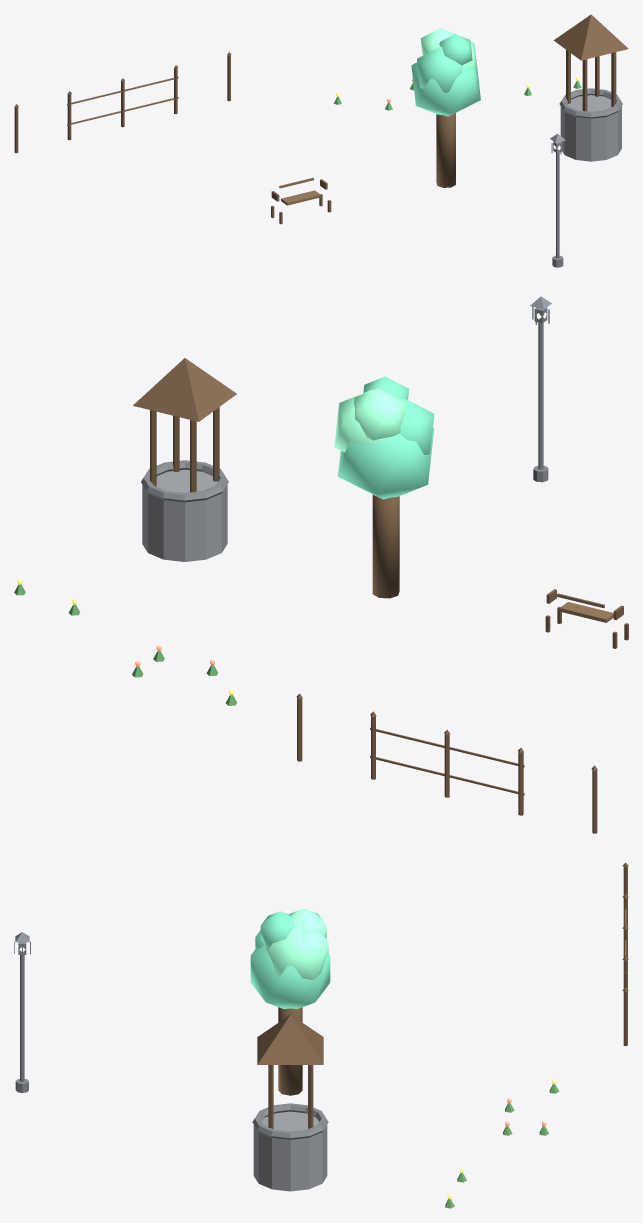
Rendered from town_props_v2.glb.
3 renders of one model, top to bottom at view 1: azimuth 30°, elevation 25°; view 2: azimuth 150°, elevation 25°; view 3: azimuth 270°, elevation 25°, orthographic. The views are drawn at different scales.
Parts seen in each view (by area): view 1: Well_Base, Tree_Canopy_0, Well_Roof, Tree_Trunk, Tree_Canopy_2, Well_TopRing, Tree_Canopy_4, Tree_Canopy_3, Lantern_Post; view 2: Well_Base, Tree_Canopy_0, Well_Roof, Tree_Trunk, Tree_Canopy_3, Well_TopRing, Tree_Canopy_2, Tree_Canopy_1, Lantern_Post; view 3: Well_Base, Tree_Canopy_0, Well_Roof, Tree_Canopy_1, Well_TopRing, Tree_Trunk, Tree_Canopy_4, Tree_Canopy_3, Lantern_Post.
Part boxes in pixels (x1=…): Well_Base: x1=560, y1=95, x2=621, y2=161; Tree_Canopy_0: x1=411, y1=60, x2=480, y2=116; Well_Roof: x1=554, y1=14, x2=628, y2=60; Tree_Trunk: x1=436, y1=113, x2=455, y2=187; Tree_Canopy_2: x1=417, y1=46, x2=462, y2=92; Well_TopRing: x1=559, y1=88, x2=622, y2=118; Tree_Canopy_4: x1=439, y1=34, x2=472, y2=65; Tree_Canopy_3: x1=420, y1=28, x2=454, y2=55; Lantern_Post: x1=556, y1=152, x2=559, y2=258; Well_Base: x1=142, y1=469, x2=227, y2=561; Tree_Canopy_0: x1=338, y1=428, x2=434, y2=499; Well_Roof: x1=133, y1=358, x2=236, y2=421; Tree_Trunk: x1=372, y1=495, x2=399, y2=598; Tree_Canopy_3: x1=353, y1=388, x2=405, y2=440; Well_TopRing: x1=141, y1=460, x2=228, y2=502; Tree_Canopy_2: x1=399, y1=396, x2=434, y2=454; Tree_Canopy_1: x1=334, y1=390, x2=390, y2=452; Lantern_Post: x1=538, y1=322, x2=543, y2=469; Well_Base: x1=253, y1=1111, x2=327, y2=1191; Tree_Canopy_0: x1=250, y1=945, x2=330, y2=1008; Well_Roof: x1=257, y1=1015, x2=323, y2=1064; Tree_Canopy_1: x1=266, y1=919, x2=328, y2=979; Well_TopRing: x1=252, y1=1103, x2=328, y2=1139; Tree_Trunk: x1=278, y1=1007, x2=302, y2=1095; Tree_Canopy_4: x1=260, y1=911, x2=293, y2=948; Tree_Canopy_3: x1=289, y1=908, x2=326, y2=938; Lantern_Post: x1=20, y1=955, x2=24, y2=1081.
Bounding box in the file's own units: 10.21 × 3.01 × 9.18.
